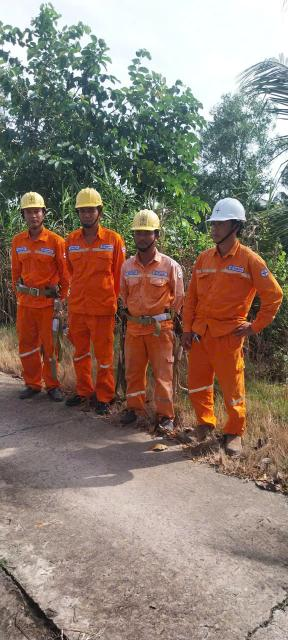harness: (7, 272, 63, 302), (118, 298, 174, 327)
helmet: (129, 204, 170, 241), (203, 193, 249, 225), (74, 184, 121, 214), (14, 186, 53, 216)
shoes: (220, 423, 261, 467), (14, 375, 53, 407), (185, 416, 214, 447), (88, 392, 120, 419), (66, 388, 96, 415), (121, 401, 147, 428), (47, 377, 69, 408), (155, 410, 177, 438)
